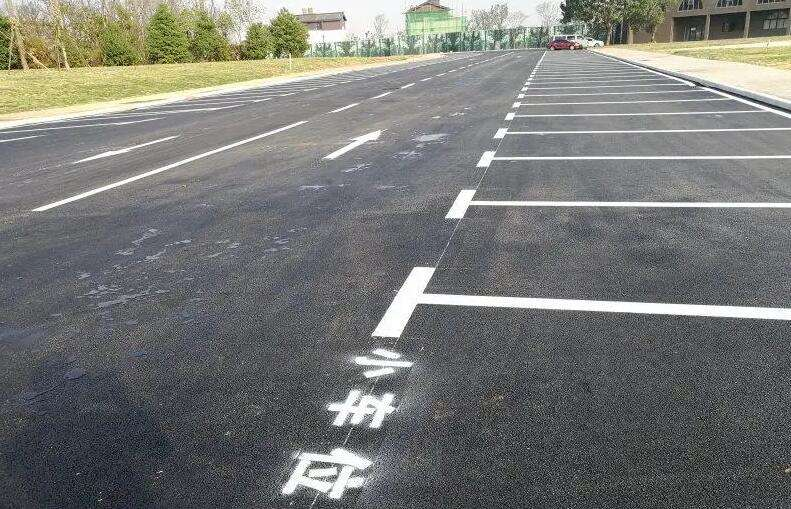slot_nocar: (385, 187, 791, 330), (447, 143, 791, 214), (481, 122, 791, 168), (501, 108, 791, 135), (524, 69, 701, 92), (513, 89, 739, 103)
